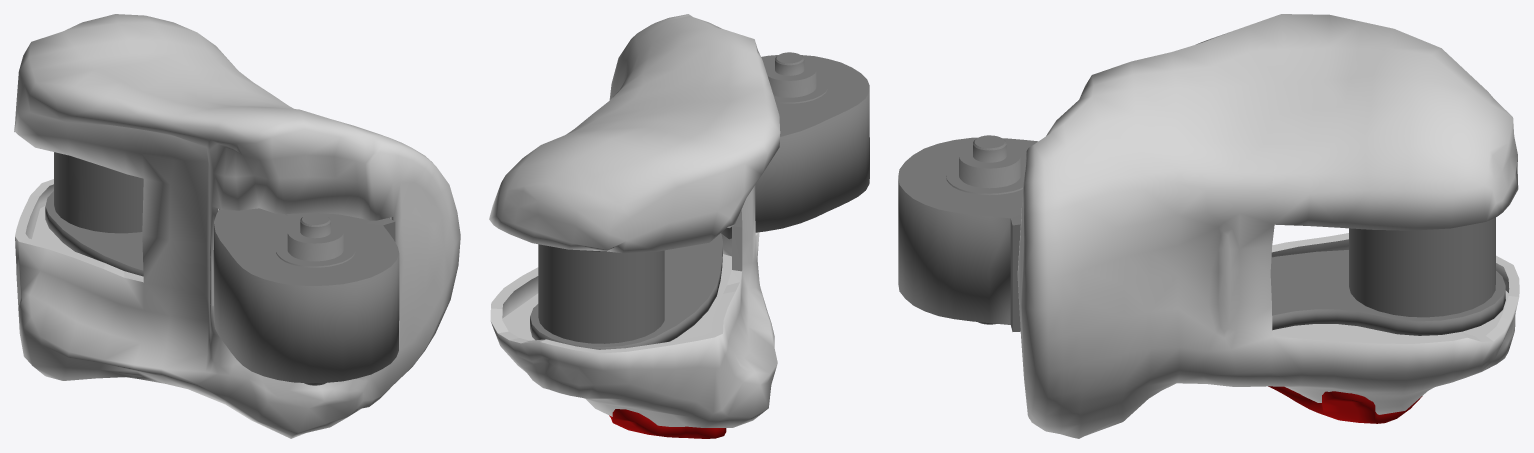
File: RKneePitch.dae
The picture shows the model from 3 angles, left to right: view 1: azimuth 30°, elevation 25°; view 2: azimuth 150°, elevation 25°; view 3: azimuth 270°, elevation 25°; orthographic projection. The views are drawn at different scales.
Visible parts, largest first — view 1: root_024; view 2: root_024; view 3: root_024.
Part boxes in pixels (x1=…): root_024: x1=14, y1=14, x2=460, y2=438; root_024: x1=489, y1=14, x2=869, y2=438; root_024: x1=898, y1=14, x2=1519, y2=438.
Bounding box in the file's own units: 89.68 × 148 × 93.29.
